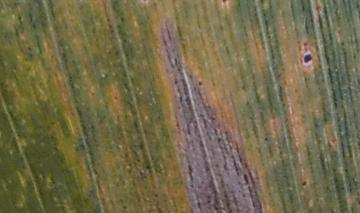tarspot: (302, 53, 313, 64), (197, 80, 203, 87), (263, 135, 269, 142), (302, 180, 307, 187), (222, 1, 227, 3)
